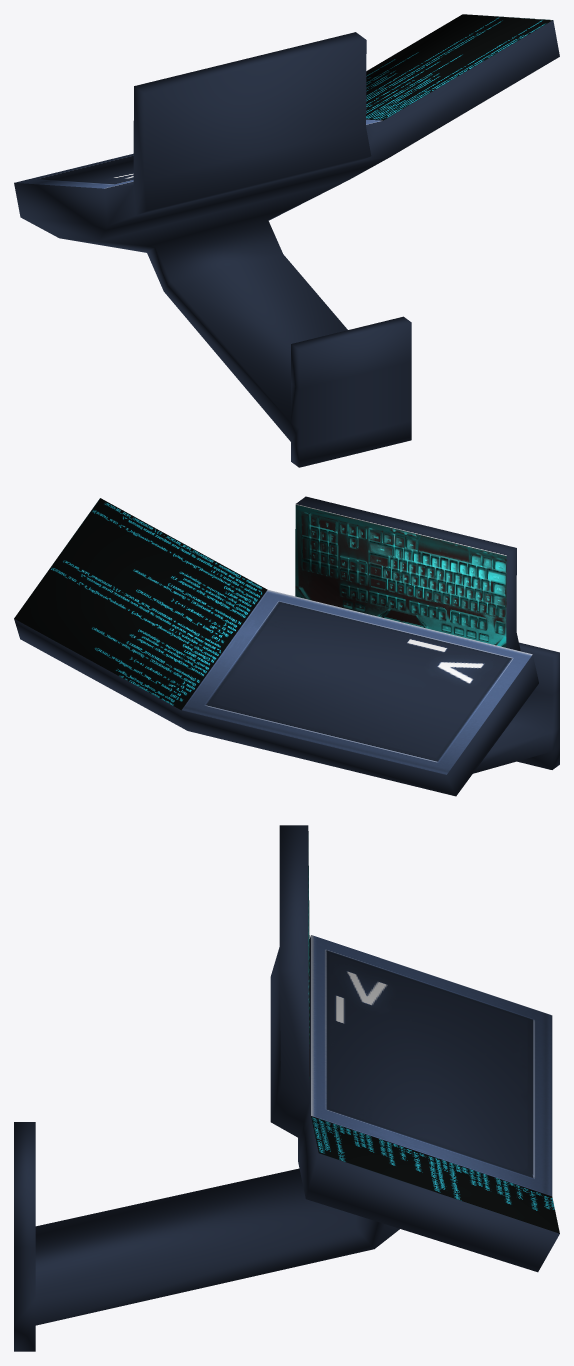
Rendered from console.fbx.
The picture shows the model from 3 angles, top to bottom: view 1: azimuth 30°, elevation 25°; view 2: azimuth 150°, elevation 25°; view 3: azimuth 270°, elevation 25°; orthographic projection. The views are drawn at different scales.
Visible parts, largest first — view 1: Console; view 2: Console; view 3: Console.
Boxes of the visible parts, x1,y1,x2,y2 form: Console: (14,14,559,467); Console: (14,496,559,796); Console: (14,825,559,1351).
Bounding box in the file's own units: 2.45 × 1.61 × 1.91.
